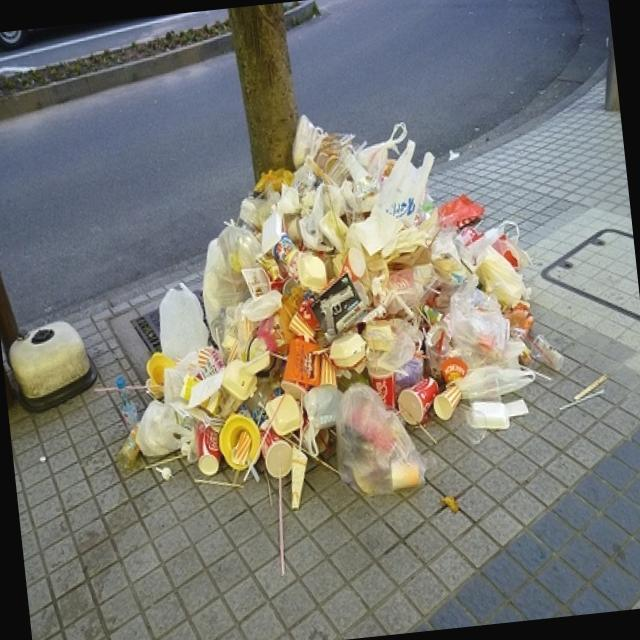garbage: (119, 118, 562, 572)
